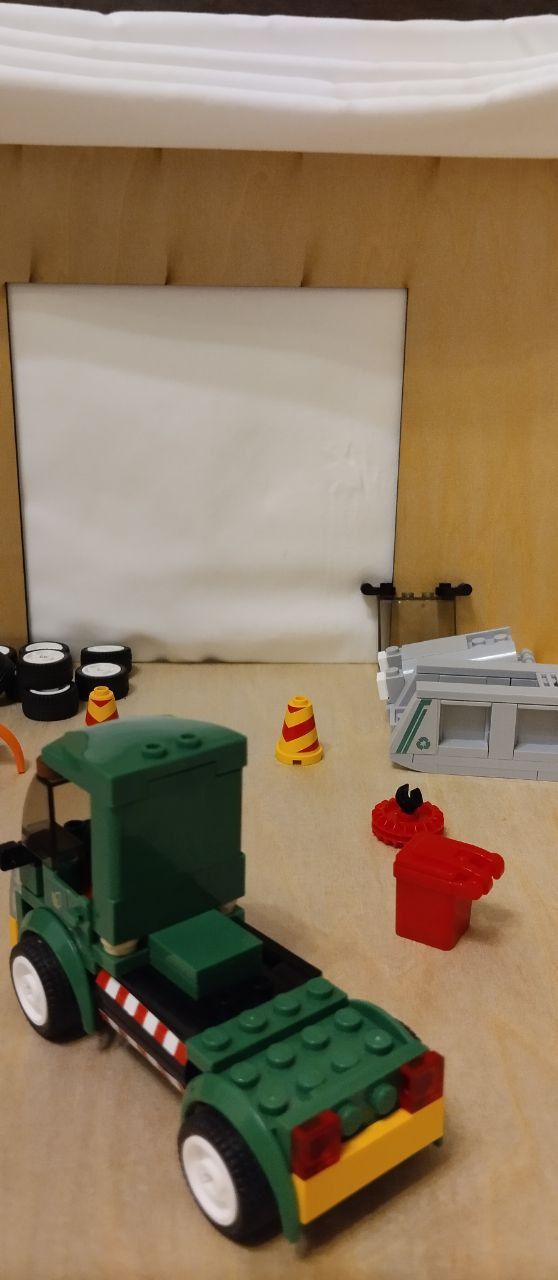Cone: (267, 696, 330, 769), (82, 683, 123, 728)
Object Red: (359, 831, 516, 962)
Truck: (1, 704, 501, 1267)
